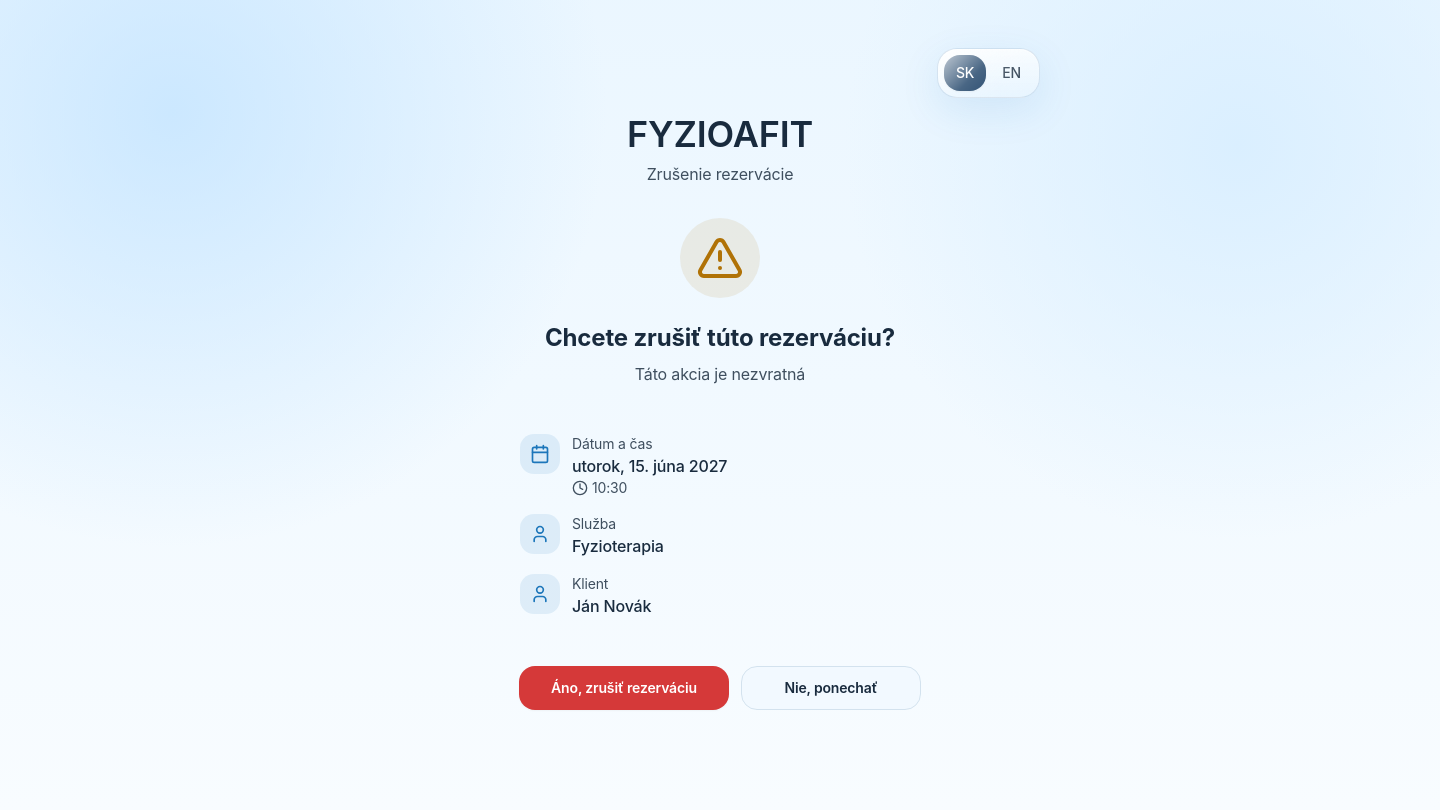
Test case: CancelBooking › should show success after cancellation
Click the button "Áno, zrušiť rezerváciu" at (624, 688), box [519,666,729,710]
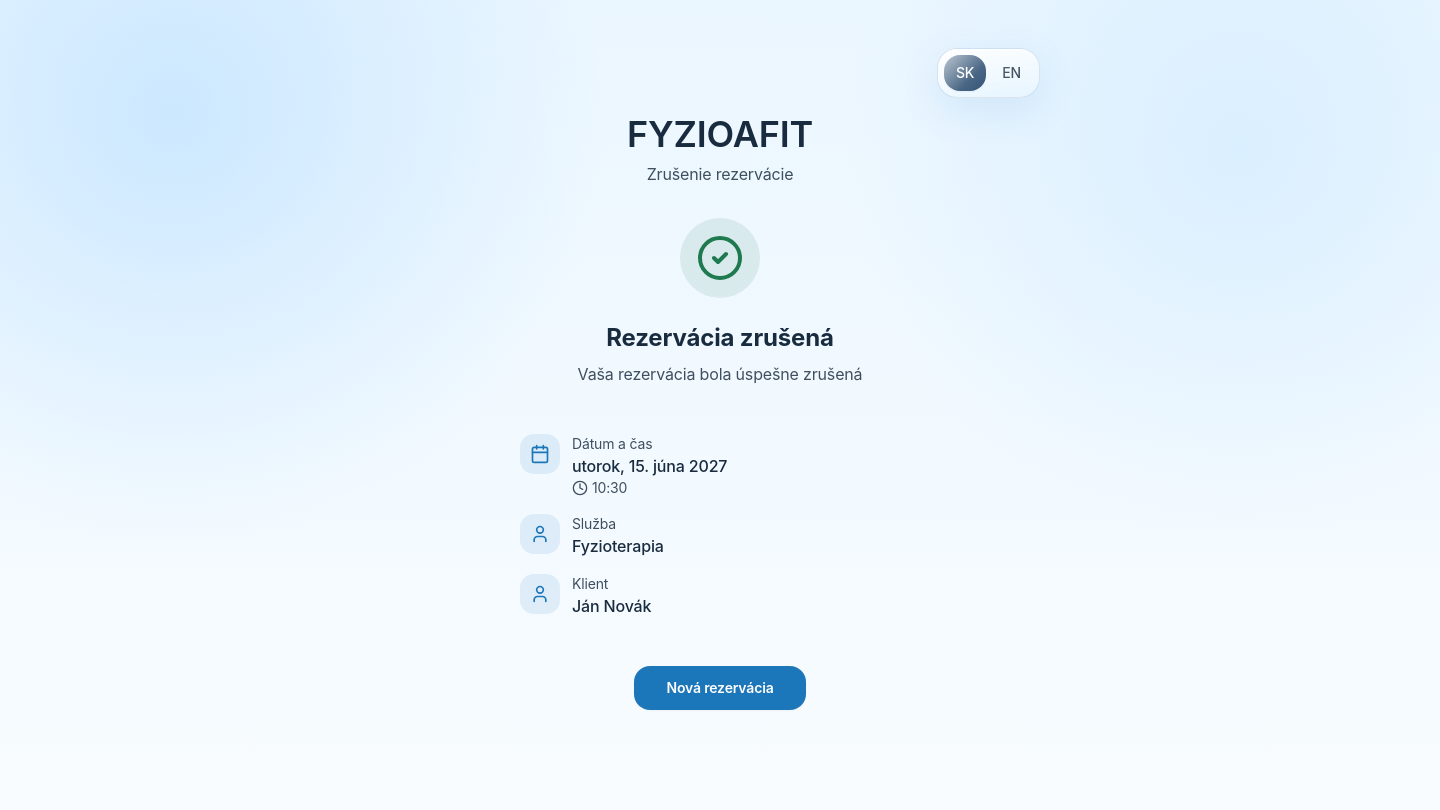
expect the heading "Rezervácia zrušená" is shown: met, box [606,323,834,352]
expect the text "Vaša rezervácia bola úspešne zrušená" is shown: met, box [578,364,862,384]
